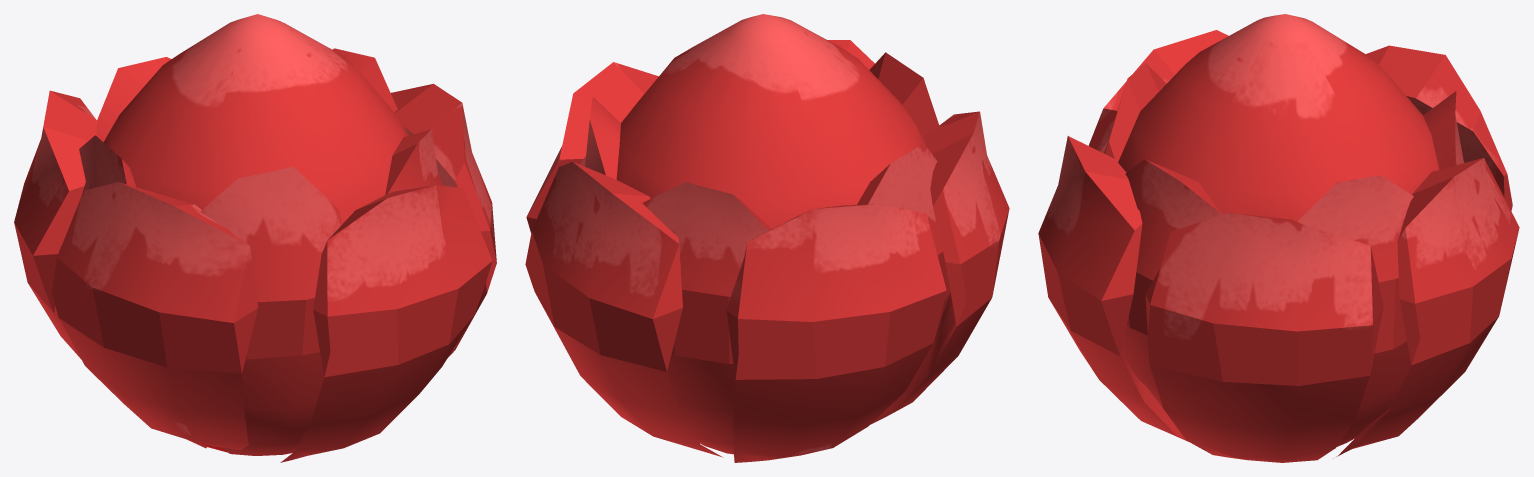
Rendered from flower2.fbx.
The picture shows the model from 3 angles, left to right: view 1: azimuth 30°, elevation 25°; view 2: azimuth 150°, elevation 25°; view 3: azimuth 270°, elevation 25°; orthographic projection.
Parts seen in each view (by area): view 1: Infection_2; view 2: Infection_2; view 3: Infection_2.
Boxes of the visible parts, <box> form: Infection_2: <box>14,14,496,462</box>; Infection_2: <box>525,14,1009,462</box>; Infection_2: <box>1038,14,1519,462</box>.
Bounding box in the file's own units: 1.68 × 1.65 × 1.69.
